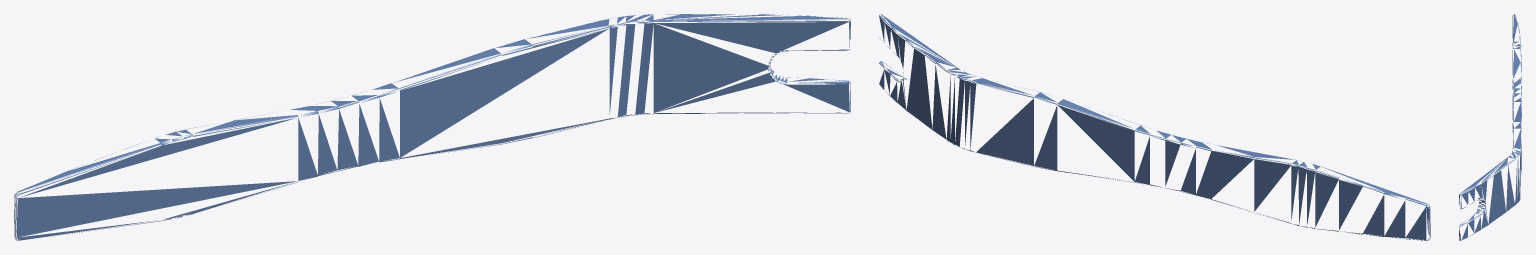
The model's file is handTool_pry_bar_hook_a01.glb.
The picture shows the model from 3 angles, left to right: view 1: azimuth 30°, elevation 25°; view 2: azimuth 150°, elevation 25°; view 3: azimuth 270°, elevation 25°; orthographic projection. The views are drawn at different scales.
Visible parts, largest first — view 1: geometry_0; view 2: geometry_0; view 3: geometry_0.
Boxes of the visible parts, bbox=[...] form: geometry_0: bbox=[14, 14, 850, 240]; geometry_0: bbox=[879, 14, 1430, 240]; geometry_0: bbox=[1459, 14, 1521, 240].
Size of the model in its own units: 0.48 by 0.055 by 0.0663.
